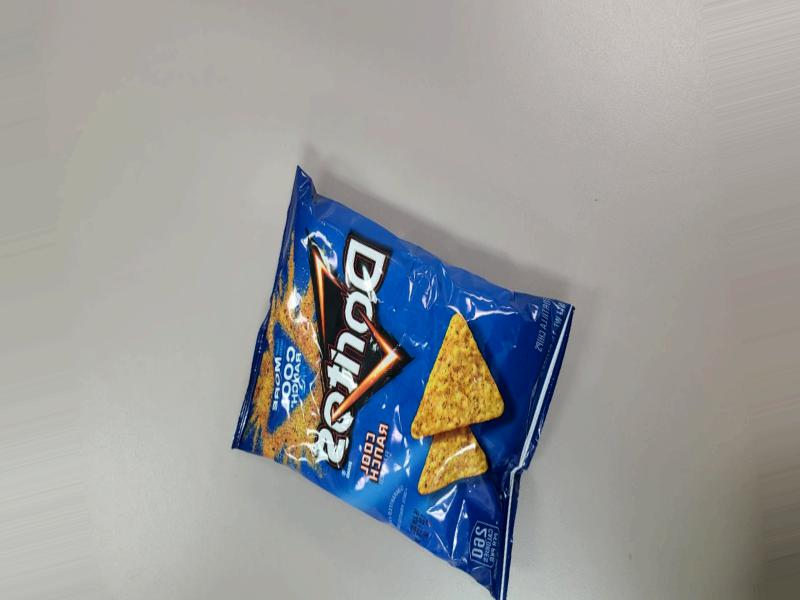doritos: (243, 217, 623, 600)
